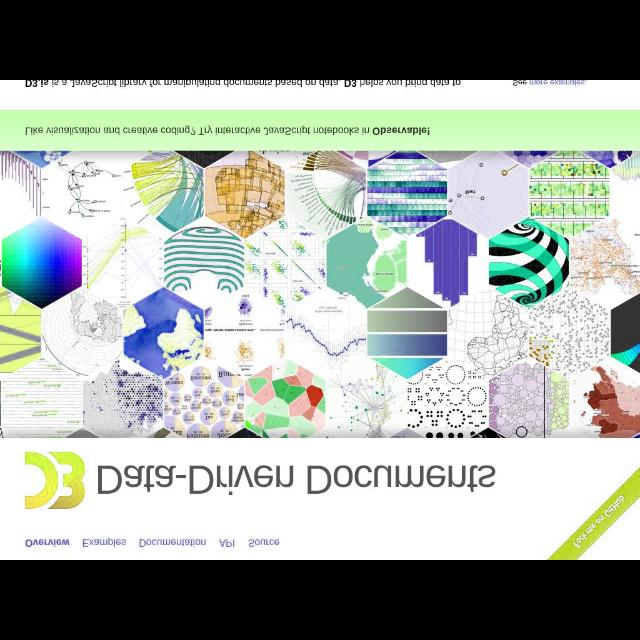image: (1, 151, 639, 437), (24, 451, 84, 509)
text: (98, 462, 494, 493), (24, 124, 432, 136), (25, 81, 463, 89), (139, 539, 207, 547), (25, 538, 71, 548), (511, 80, 585, 86), (82, 538, 126, 548), (248, 538, 280, 548), (219, 539, 235, 547)
